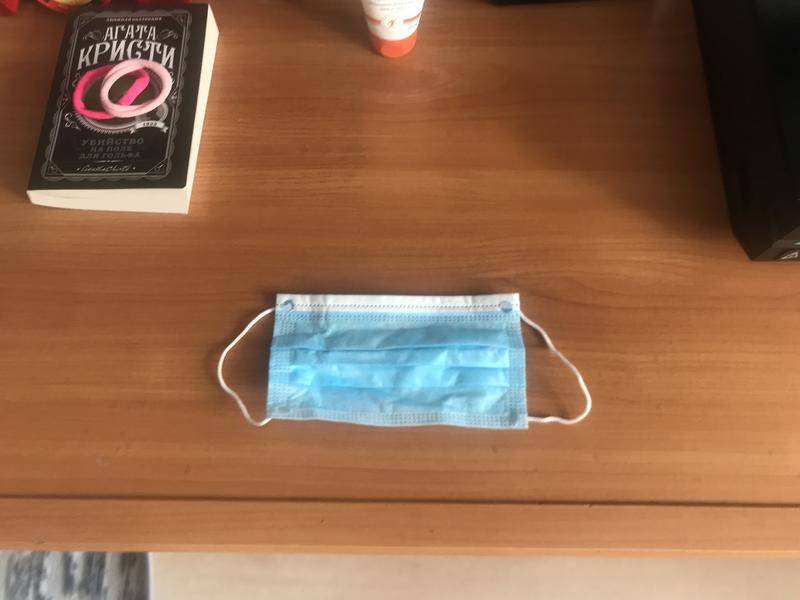medical_mask: (216, 292, 593, 436)
